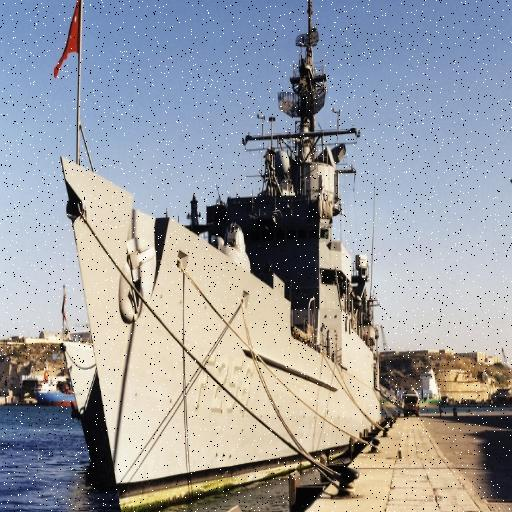Fragata: (59, 1, 395, 512)
